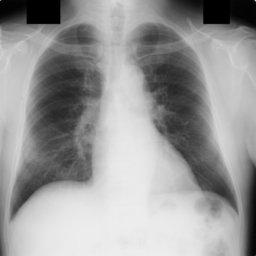left lobe: (131, 23, 238, 210)
right lobe: (12, 24, 103, 218)
